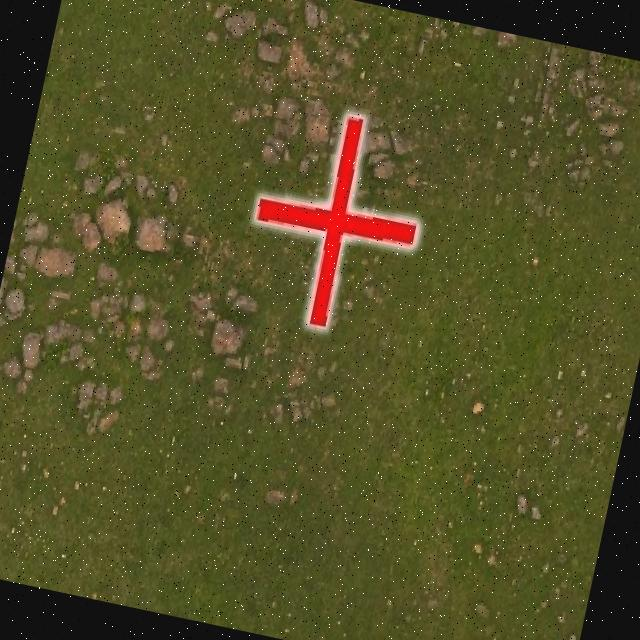x_marker: (236, 100, 436, 339)
